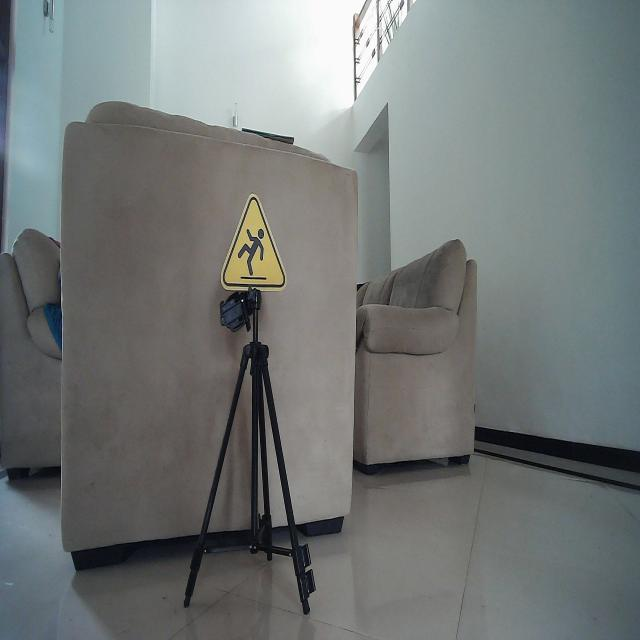slippery_sign: (220, 192, 288, 293)
